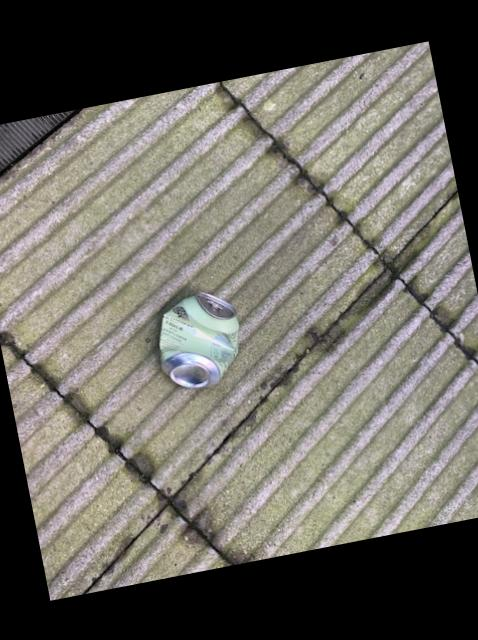metal: (160, 289, 240, 385)
